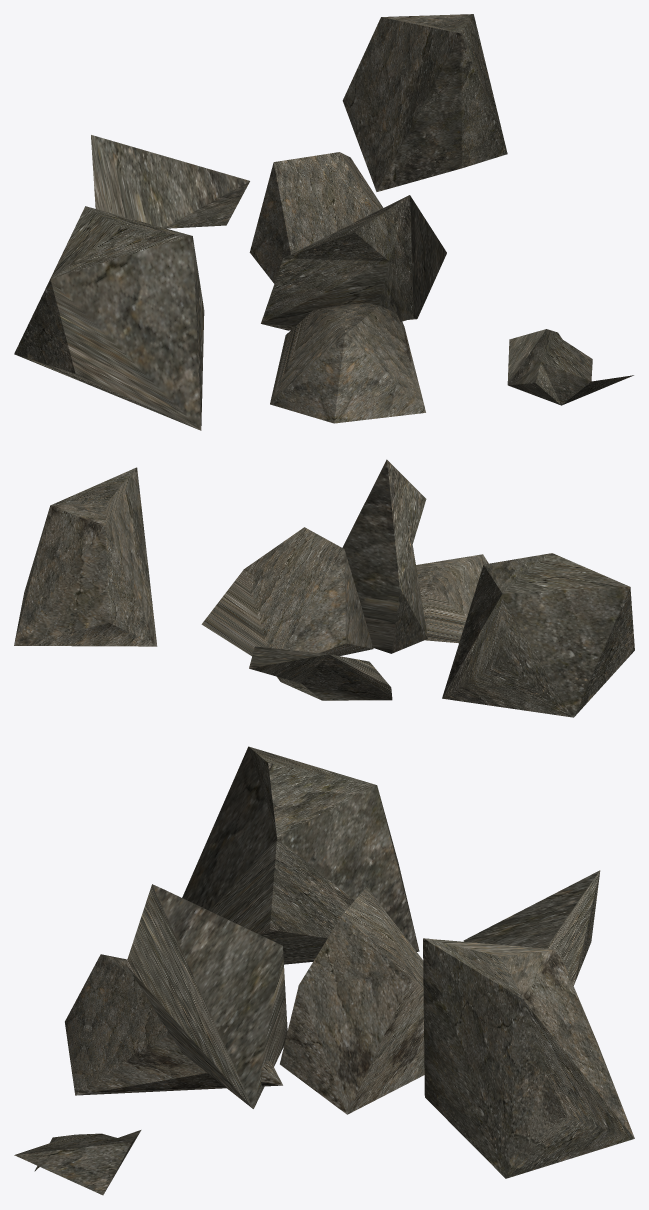
File: mm9_deco_stonedebris04lsp350.glb
The picture shows the model from 3 angles, top to bottom: view 1: azimuth 30°, elevation 25°; view 2: azimuth 150°, elevation 25°; view 3: azimuth 270°, elevation 25°; orthographic projection. The views are drawn at different scales.
Visible parts, largest first — view 1: Stonedebris04lsp350; view 2: Stonedebris04lsp350; view 3: Stonedebris04lsp350.
Part boxes in pixels (x1,y1,x2,y2): Stonedebris04lsp350: [14, 14, 633, 430]; Stonedebris04lsp350: [14, 459, 634, 717]; Stonedebris04lsp350: [14, 746, 634, 1195].
Size of the model in its own units: 2.43 by 0.9537 by 1.97.
1 material, 1 textured.
